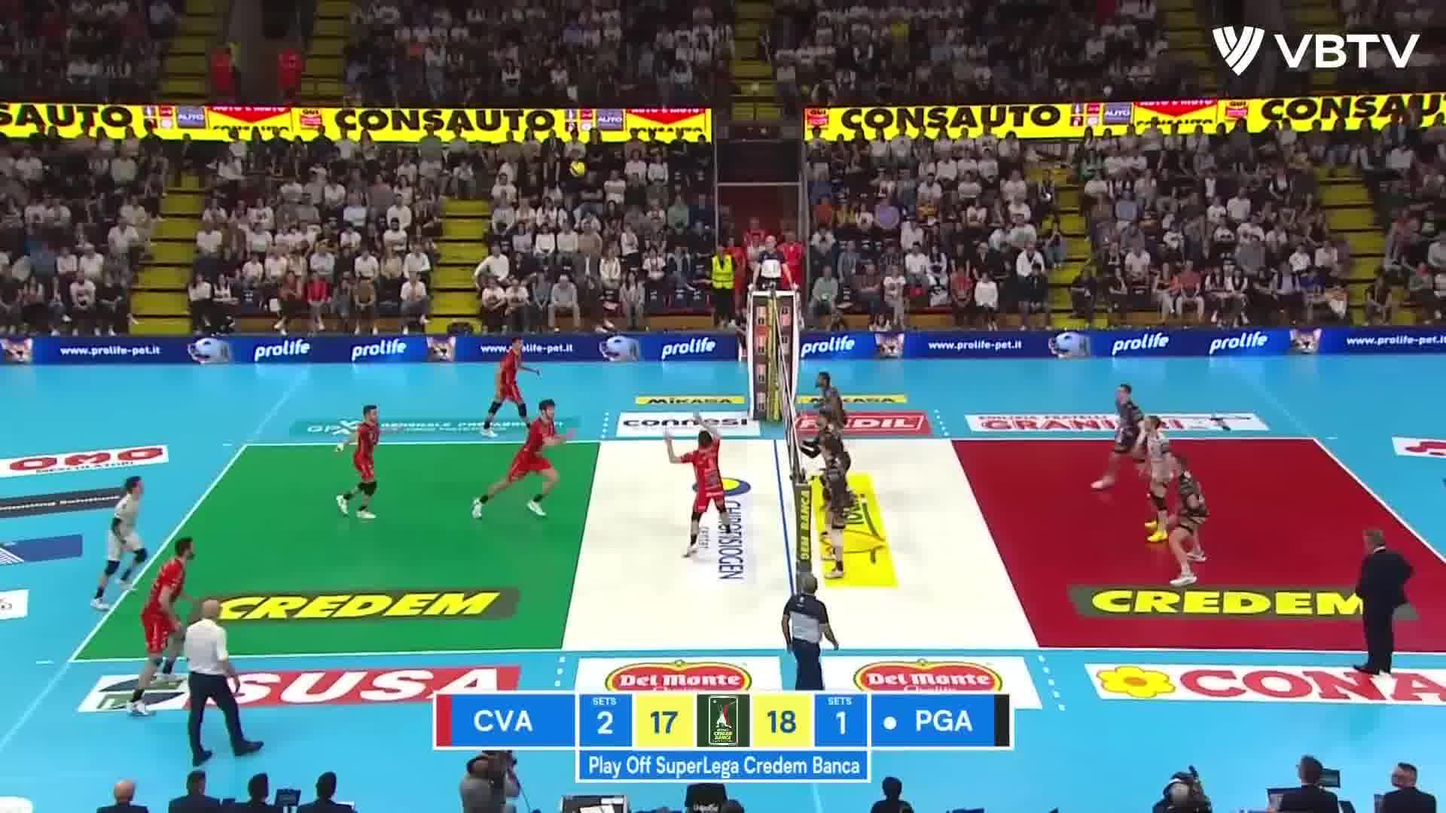balls: (566, 155, 590, 182)
